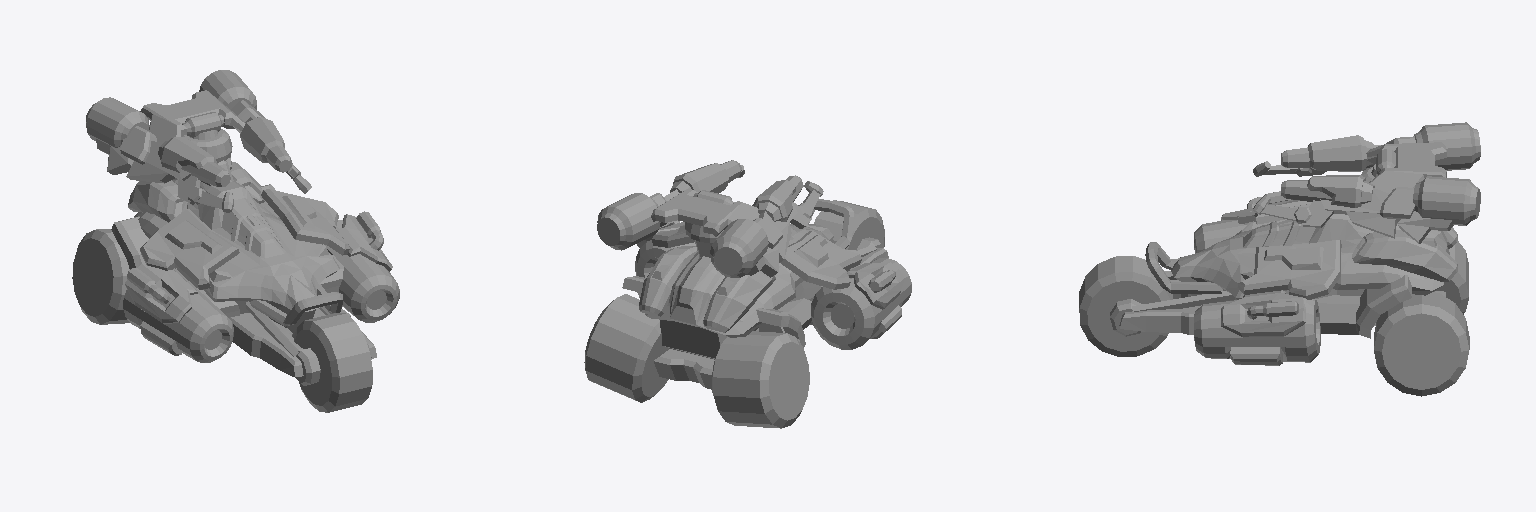
File: Hellion.obj
3 renders of one model, left to right at view 1: azimuth 30°, elevation 25°; view 2: azimuth 150°, elevation 25°; view 3: azimuth 270°, elevation 25°, orthographic.
Visible parts, largest first — view 1: Shadow_HellionElite.m3.001; view 2: Shadow_HellionElite.m3.001; view 3: Shadow_HellionElite.m3.001.
Part boxes in pixels (x1,y1,x2,y2): Shadow_HellionElite.m3.001: (72, 70, 399, 412); Shadow_HellionElite.m3.001: (584, 160, 911, 428); Shadow_HellionElite.m3.001: (1079, 122, 1480, 396).
Bounding box in the file's own units: 1.78 × 1.44 × 2.54.